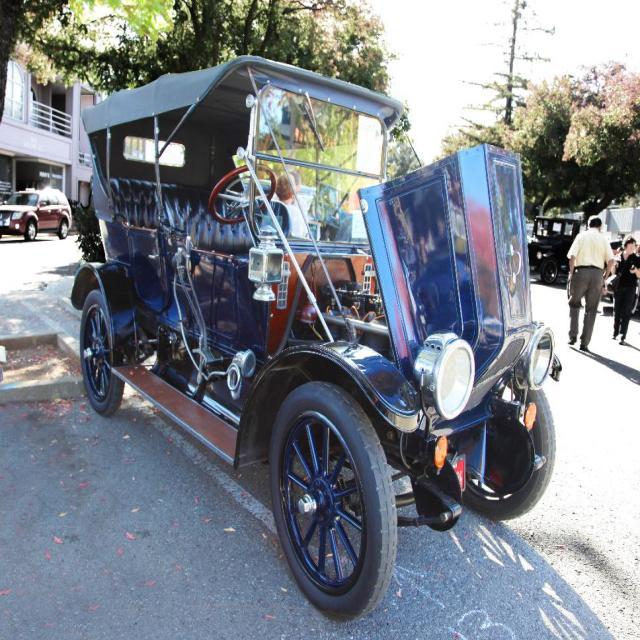car: (70, 54, 560, 620)
